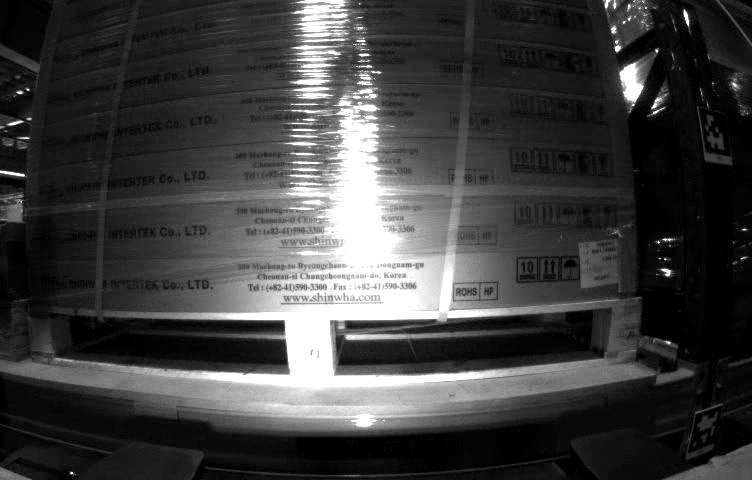True Barcode: (576, 240, 623, 288)
